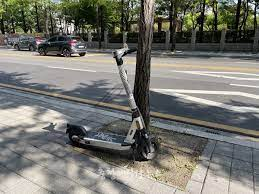kick_board: (66, 48, 158, 159)
kick_body: (84, 133, 127, 149)
kick_handler: (113, 47, 136, 64)
kick_neck: (119, 68, 143, 127)
kick_wheel: (139, 139, 159, 159), (67, 123, 84, 145)
